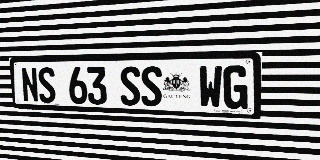3: (87, 67, 107, 105)
6: (68, 67, 88, 104)
G: (223, 65, 248, 109)
N: (21, 67, 39, 103)
S: (140, 66, 162, 107), (119, 66, 141, 106), (37, 67, 56, 103)
W: (199, 66, 222, 109)
